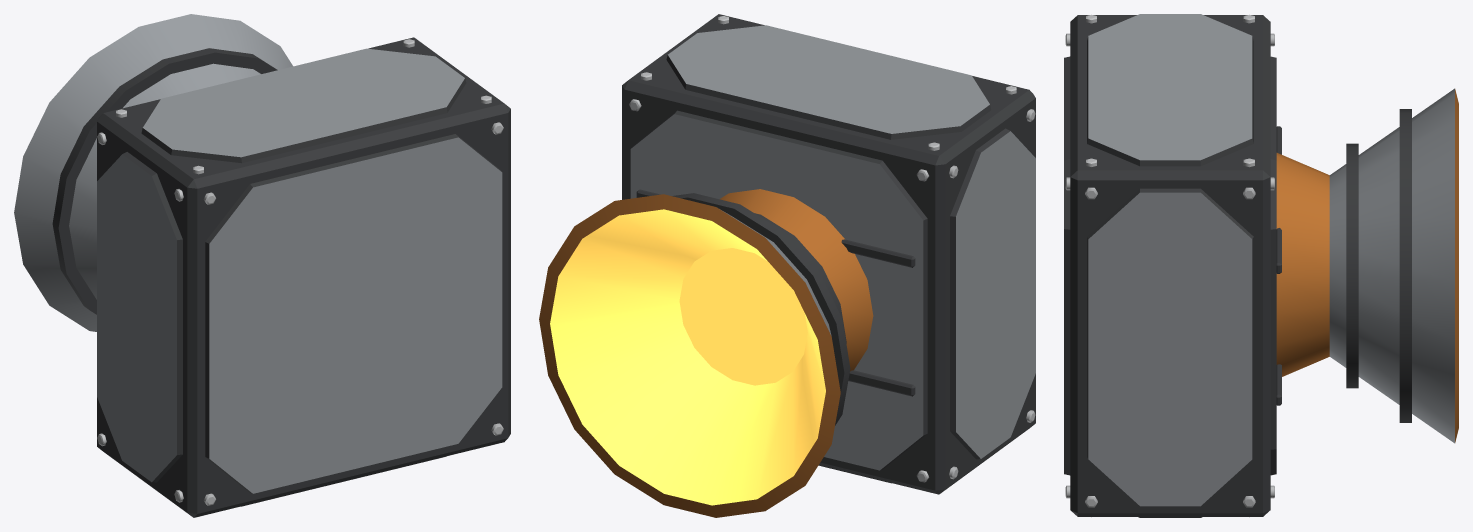
The model's file is R4X_Booster.fbx.
The picture shows the model from 3 angles, left to right: view 1: azimuth 30°, elevation 25°; view 2: azimuth 150°, elevation 25°; view 3: azimuth 270°, elevation 25°; orthographic projection. The views are drawn at different scales.
Visible parts, largest first — view 1: R4X_Booster_Body; view 2: R4X_Booster_Body; view 3: R4X_Booster_Body.
Boxes of the visible parts, x1,y1,x2,y2 form: R4X_Booster_Body: [14, 14, 510, 517]; R4X_Booster_Body: [539, 14, 1035, 517]; R4X_Booster_Body: [1064, 14, 1458, 517].
Size of the model in its own units: 0.52 by 0.52 by 0.52.
